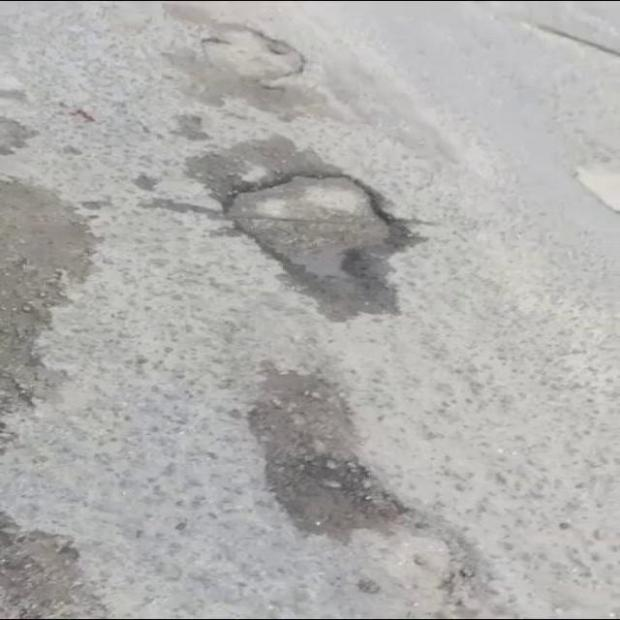lubang: (249, 369, 406, 537), (228, 174, 411, 308), (0, 179, 92, 435), (0, 512, 110, 616), (195, 25, 305, 90)
